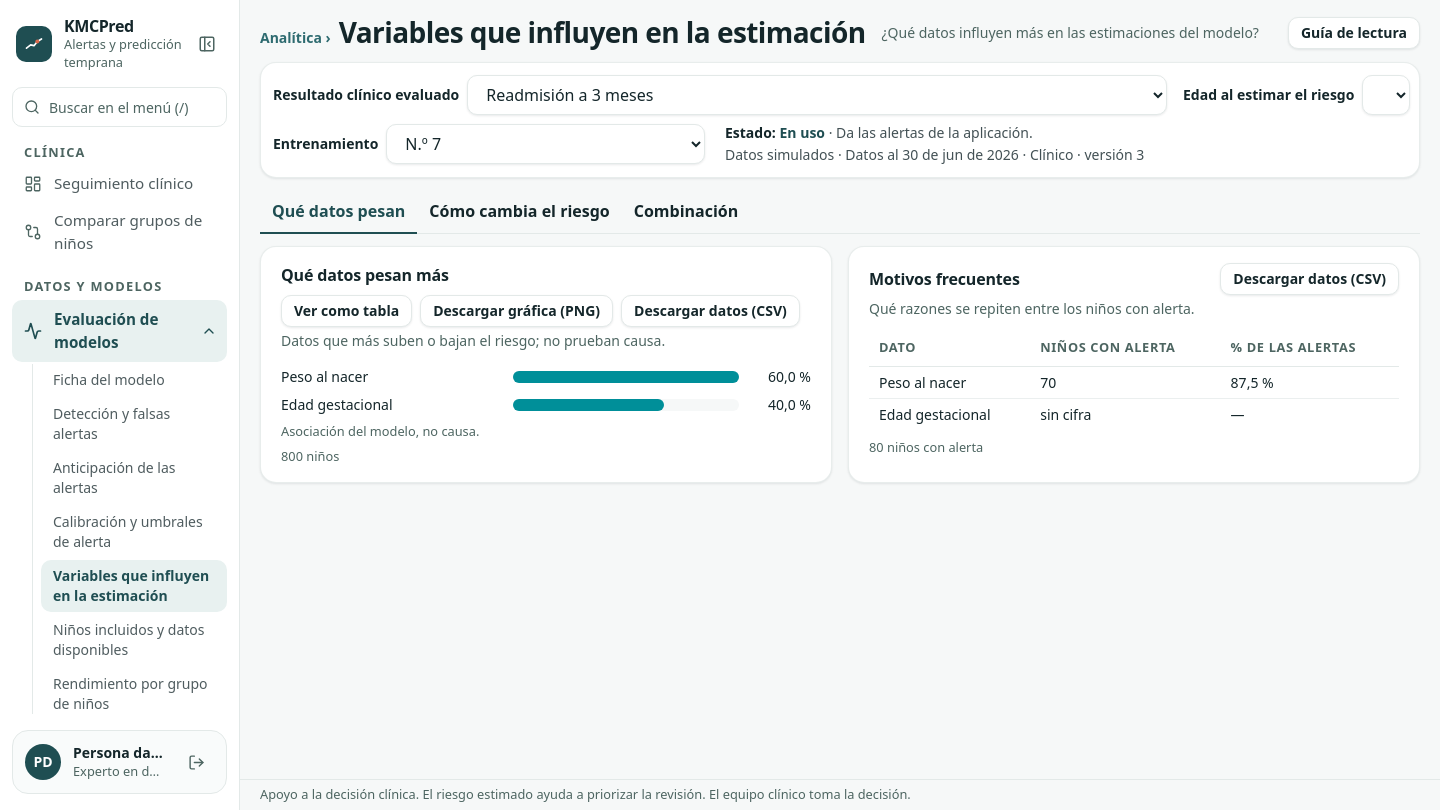
Scenario: interpretabilidad › muestra importancia, curva, motivos y combinación con sus descripciones y exportaciones
Expected: the heading "Qué datos pesan más" is shown, [281,263,449,287]
Expected: the text "Peso al nacer" is shown, [281,367,368,386]
// la curva de un dato y la combinación de dos están en sus pestañas
Click the tab "Cómo cambia el riesgo" at (520, 212), box [417,190,622,234]
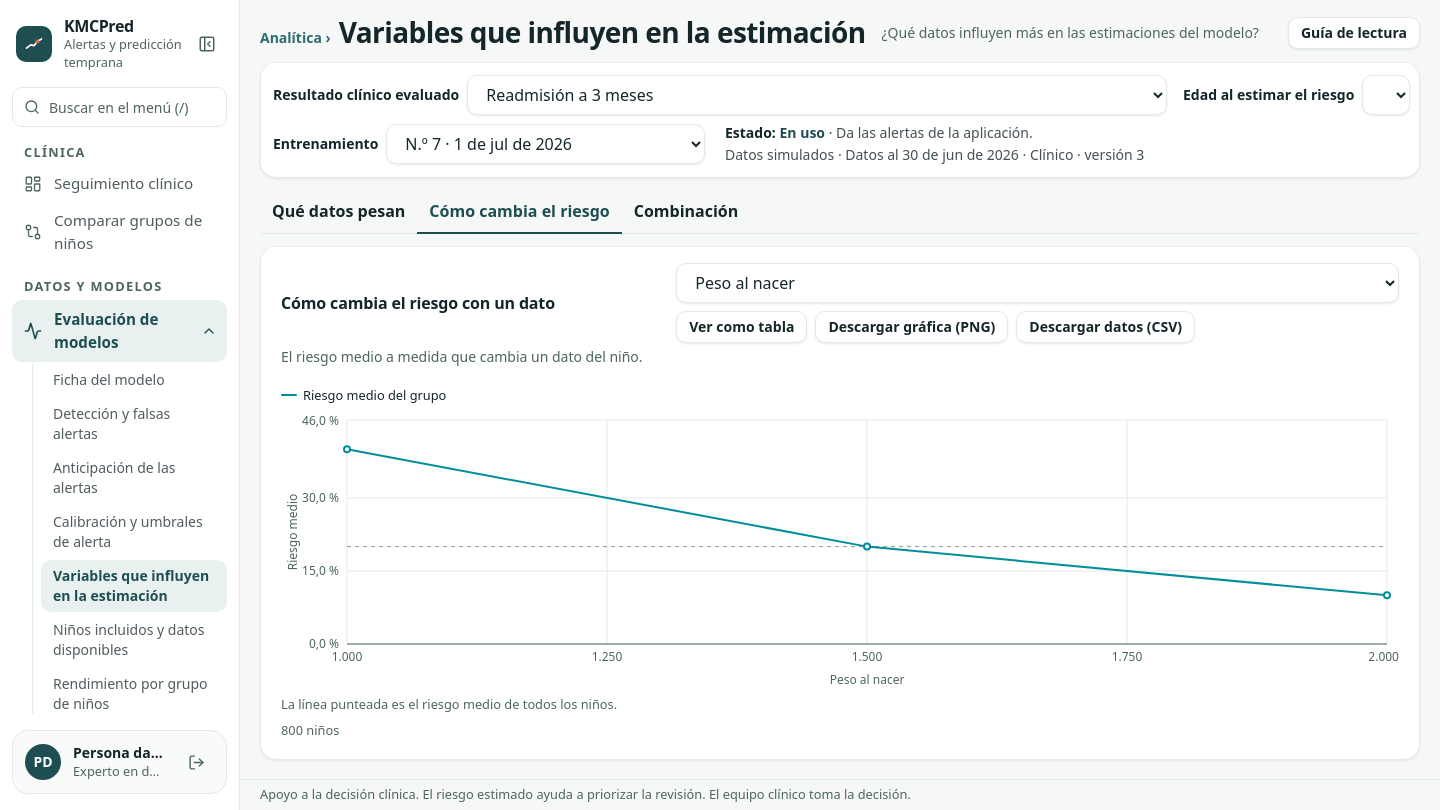
Expected: the heading "Cómo cambia el riesgo con un dato" is shown, [281,291,555,315]
Expected: the dropdown named "Dato que cambia" is shown
Select "Edad gestacional" in the dropdown named "Dato que cambia" at (1038, 283), box [676,263,1399,303]
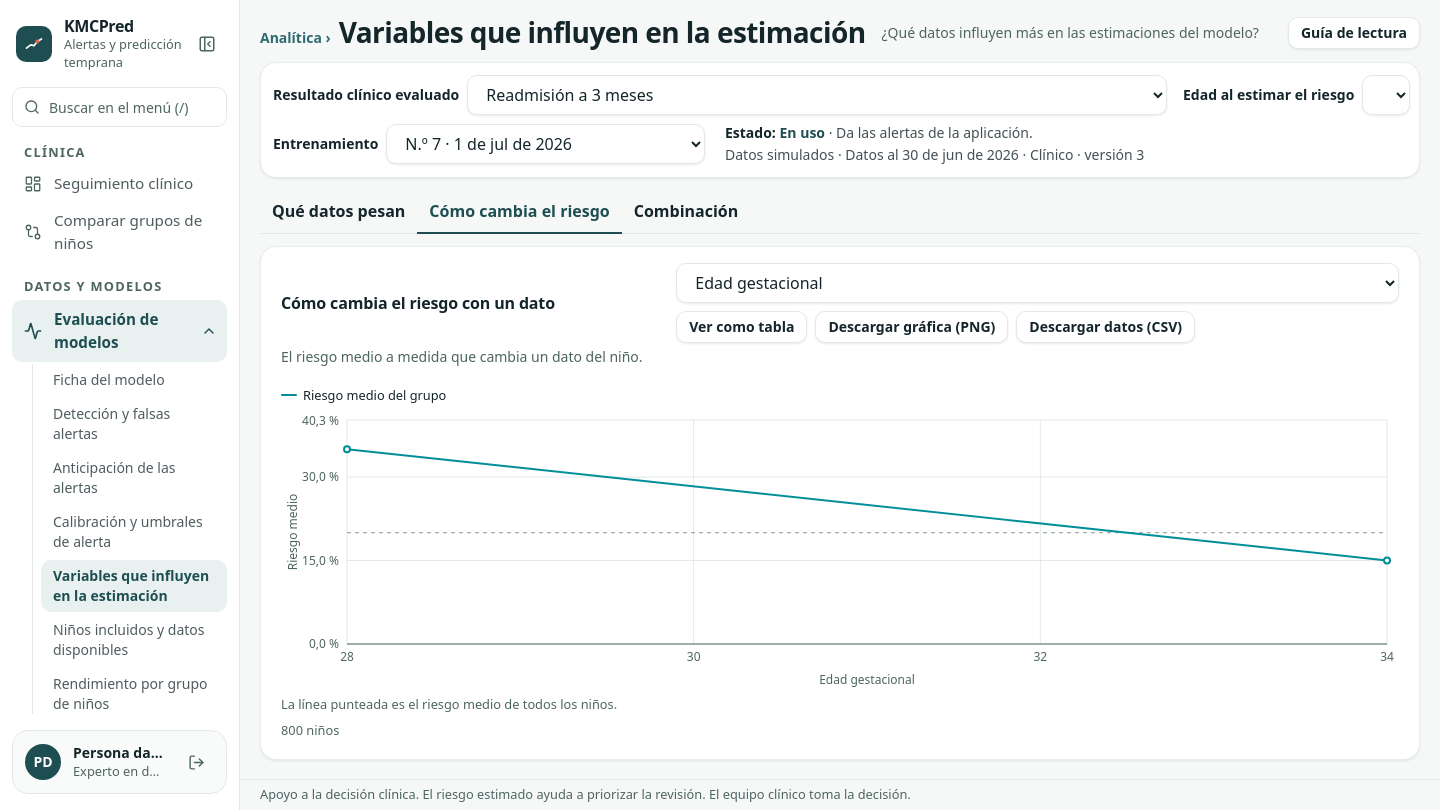
Expected: the element named "Riesgo medio según Edad gestacional" is shown, [281,412,1399,692]
Click the tab "Combinación" at (686, 212), box [622,190,750,234]
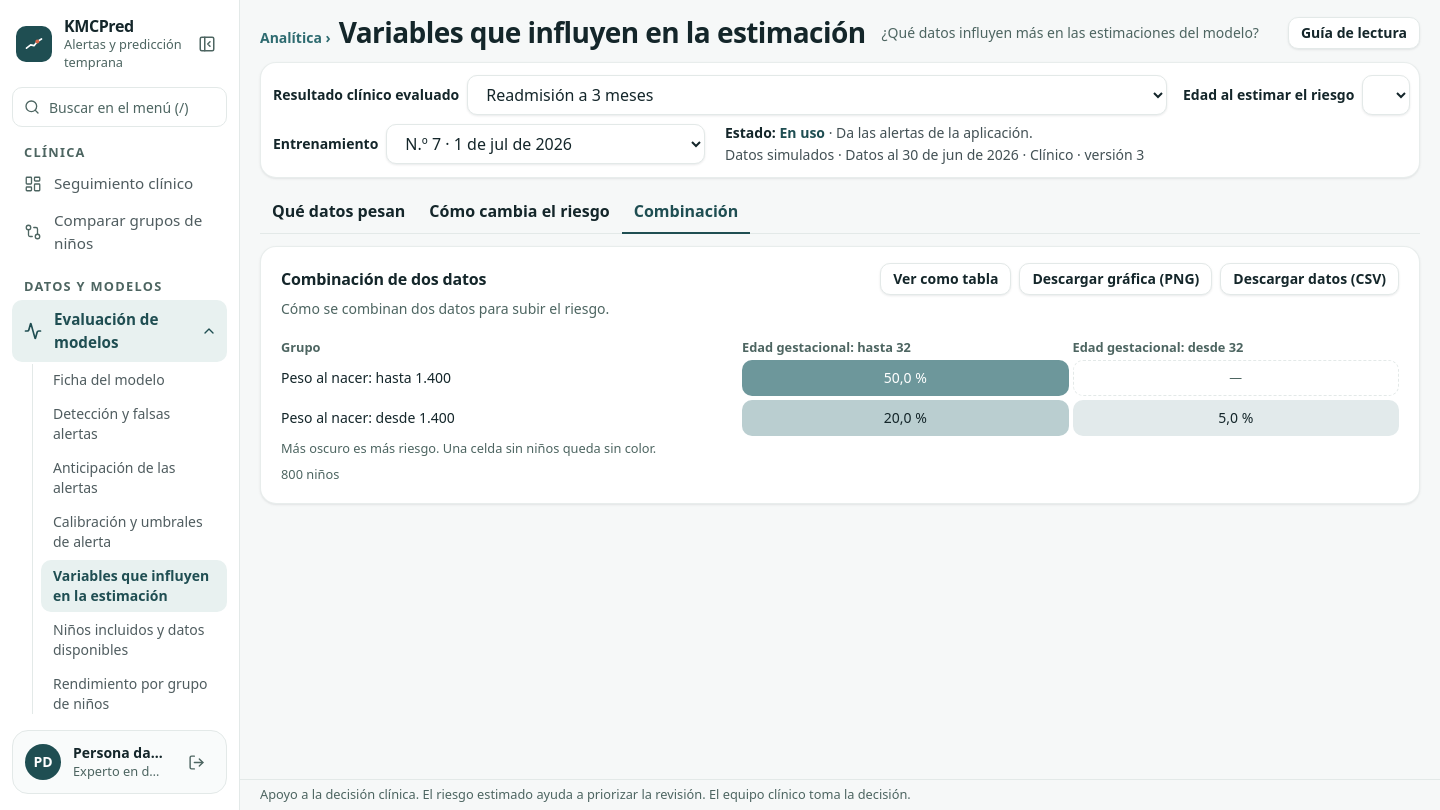
Expected: the heading "Combinación de dos datos" is shown, [281,267,486,291]
Expected: the text "—" is shown, [1072,360,1399,396]
